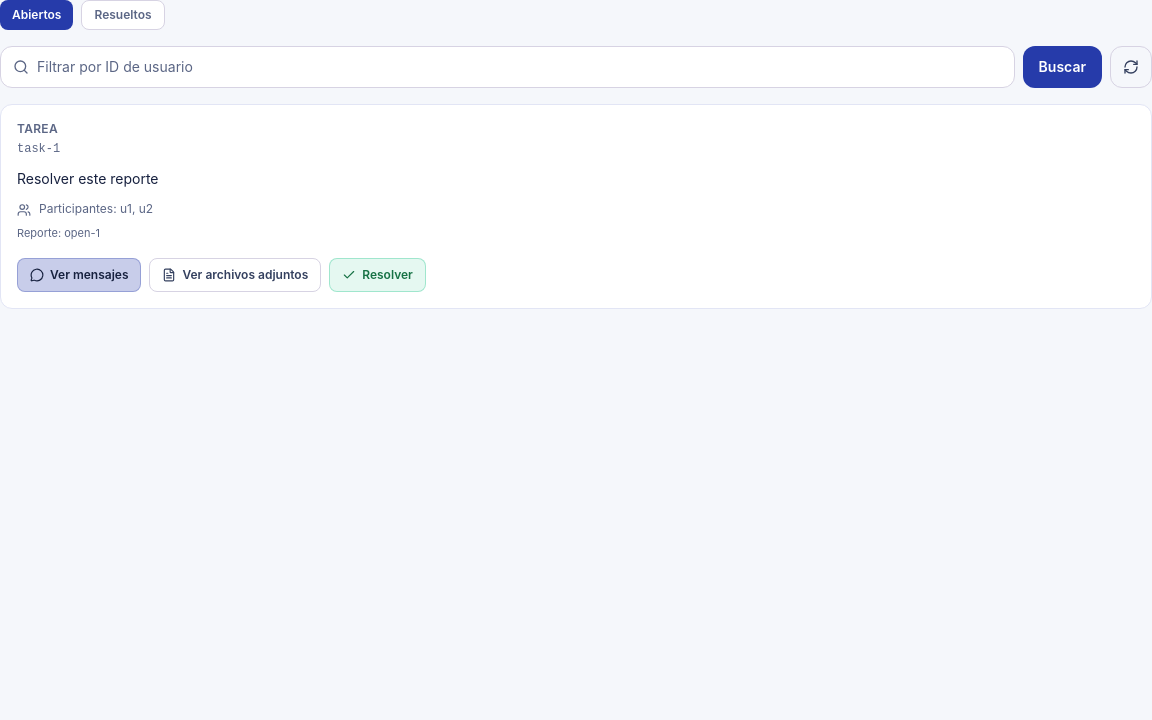
Test: TaskReportsTab › permite resolver un reporte abierto desde el panel administrador
Step 1. Click the button "Resolver" → x=378, y=274, box [329,258,426,292]
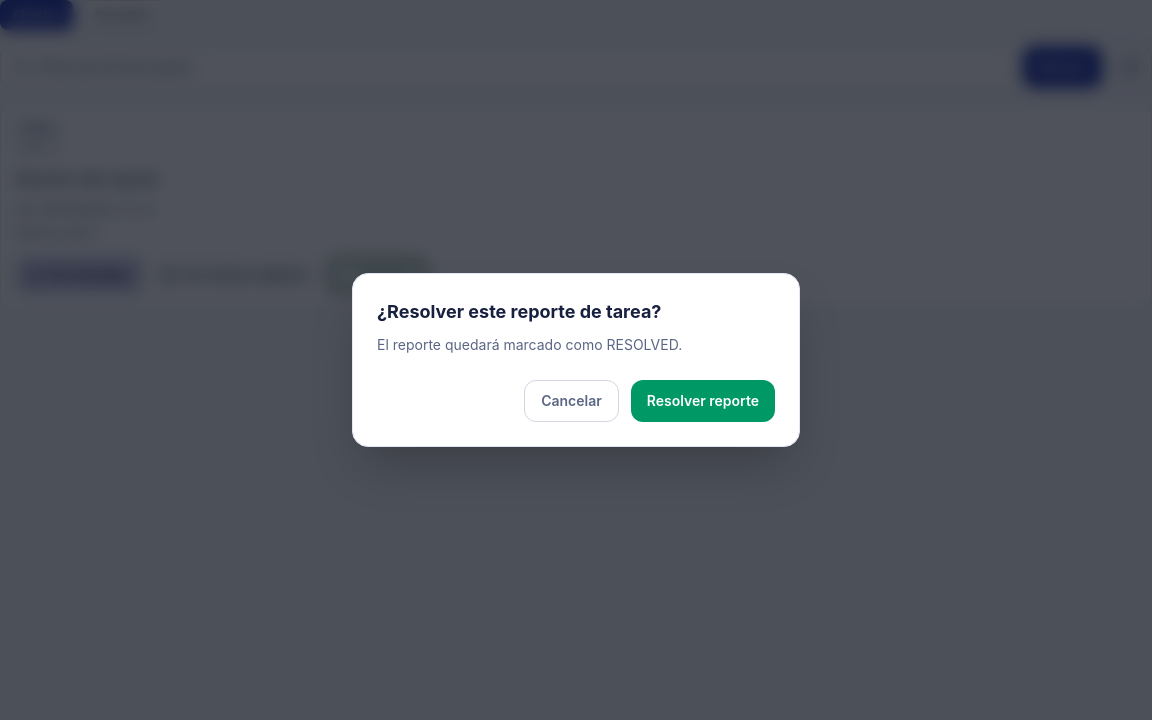
Result: the heading "¿Resolver este reporte de tarea?" is shown at [377,301,661,322]
Step 2. Click the button "Resolver reporte" → x=703, y=401, box [631,380,775,422]
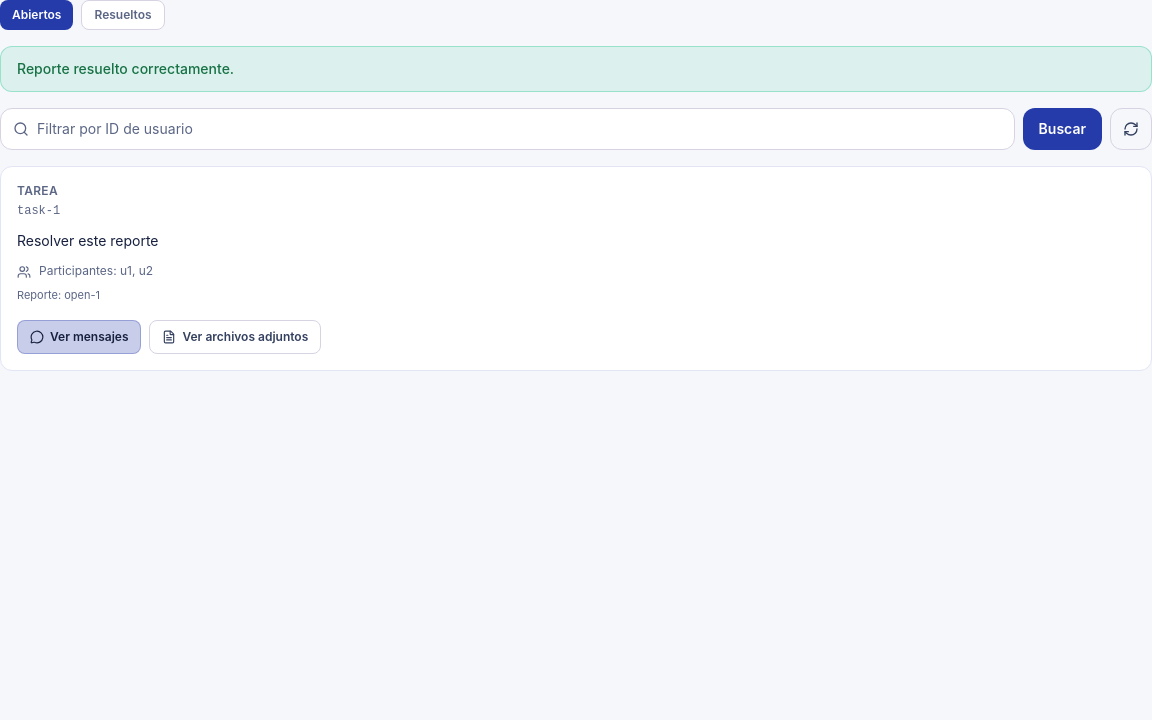
Result: the text "Reporte resuelto correctamente." is shown at [0,46,1151,92]
